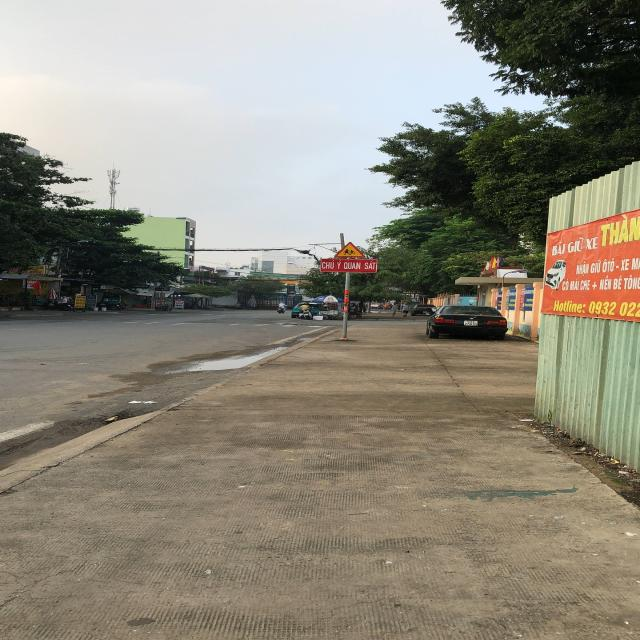Bien bao tre em: (333, 241, 368, 259)
